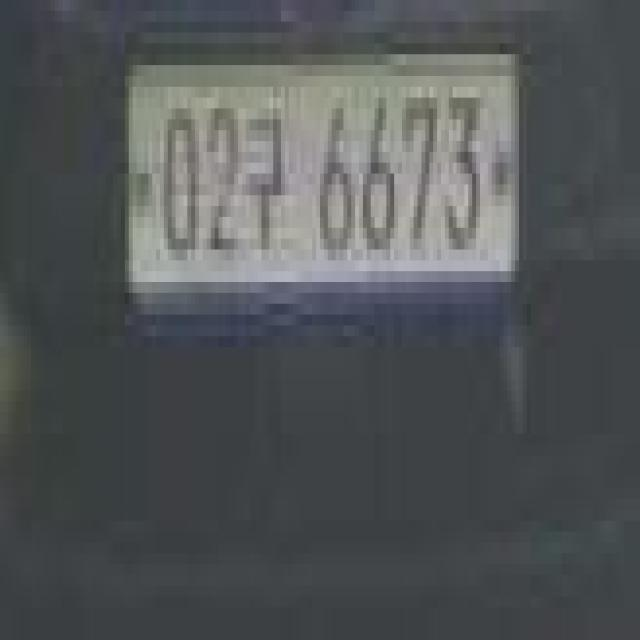illegal_plate: (126, 39, 525, 326)
